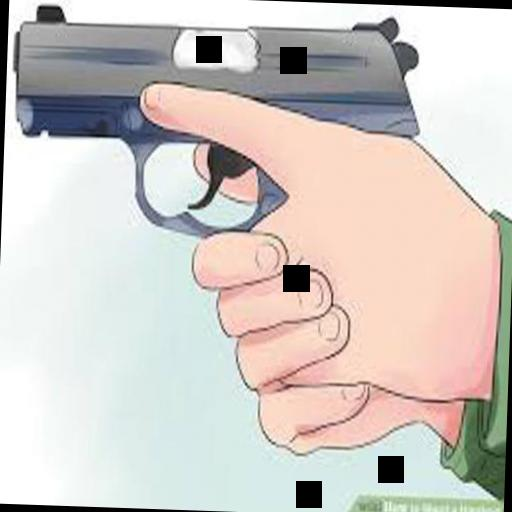Handgun: (7, 0, 431, 241)
